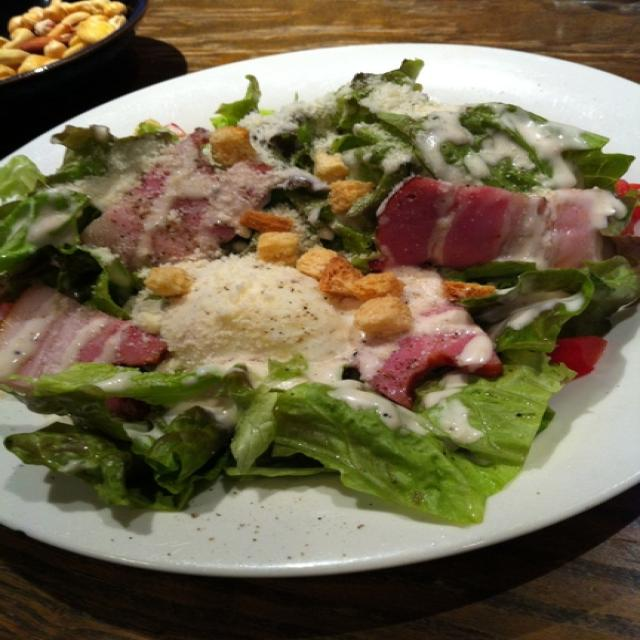蔬菜料理: (6, 31, 635, 567)
